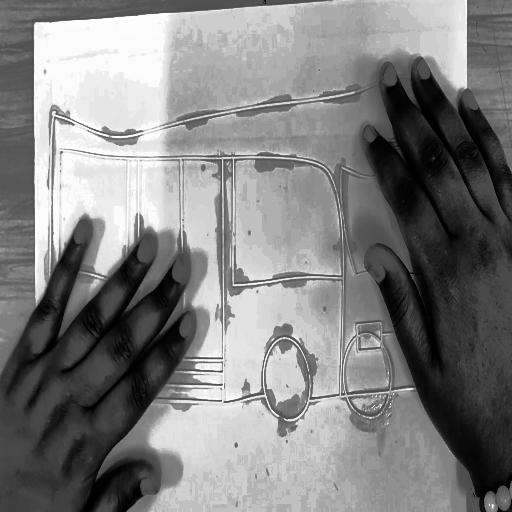bus: (43, 66, 460, 422)
top_left: (32, 18, 39, 31)
